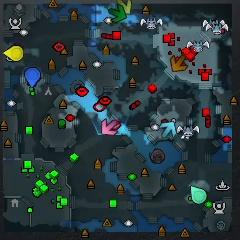p1: (25, 68, 42, 88)
p2: (190, 185, 207, 205)
p4: (3, 45, 24, 61)
x1: (101, 118, 117, 135)
x2: (116, 0, 132, 14)
x3: (160, 122, 176, 136)
x4: (109, 5, 127, 23)
x5: (170, 56, 187, 71)
